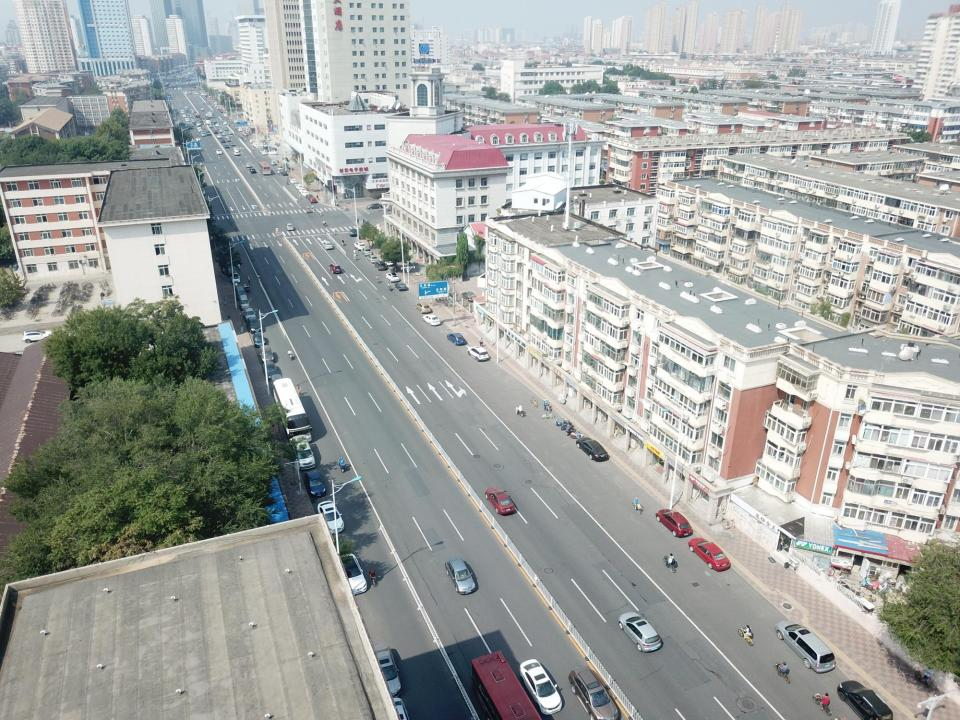bus: (471, 650, 543, 719), (273, 378, 312, 445), (259, 161, 271, 175), (195, 114, 201, 121)
car: (568, 666, 618, 720), (519, 658, 562, 715), (836, 679, 892, 719), (619, 612, 662, 652), (370, 645, 400, 697), (688, 535, 730, 571), (333, 552, 368, 595), (655, 508, 694, 538), (445, 558, 477, 594), (318, 500, 344, 534), (485, 486, 515, 515), (576, 436, 608, 461), (304, 469, 326, 497), (22, 328, 54, 344), (262, 361, 279, 381), (468, 346, 489, 362), (259, 345, 274, 363), (246, 317, 262, 333), (447, 332, 466, 345), (252, 332, 266, 348), (423, 314, 440, 326), (416, 302, 432, 313), (461, 291, 477, 302), (235, 286, 247, 300), (328, 262, 342, 274), (244, 308, 256, 321), (385, 272, 400, 282), (384, 203, 402, 211), (394, 282, 408, 291), (226, 266, 237, 277), (374, 261, 386, 270), (384, 257, 396, 266), (354, 242, 366, 250), (367, 203, 383, 209), (231, 273, 240, 283), (322, 242, 333, 250), (367, 255, 378, 263), (361, 248, 372, 256), (196, 188, 205, 195), (285, 223, 294, 230), (268, 150, 278, 155), (350, 229, 357, 236), (249, 167, 256, 174), (309, 196, 316, 203), (301, 190, 309, 196), (286, 176, 294, 182), (281, 156, 288, 162), (296, 184, 303, 190), (290, 178, 297, 184), (306, 194, 314, 199), (298, 188, 306, 193), (216, 148, 222, 154), (186, 124, 192, 130), (292, 182, 299, 187), (305, 207, 310, 213), (245, 162, 251, 167), (282, 171, 288, 176), (279, 168, 285, 173), (206, 130, 211, 135), (234, 151, 239, 156), (224, 144, 229, 149), (271, 160, 276, 165), (195, 137, 201, 141), (277, 166, 283, 170), (223, 121, 230, 124), (194, 134, 199, 138), (220, 139, 225, 143), (217, 134, 222, 138), (230, 142, 235, 146), (226, 138, 231, 142), (224, 135, 229, 139), (196, 122, 200, 126), (199, 121, 203, 125), (209, 124, 213, 128), (215, 123, 219, 127), (224, 126, 228, 130), (222, 132, 226, 136), (218, 126, 222, 130), (234, 148, 238, 151), (214, 130, 218, 133), (228, 131, 232, 134), (220, 129, 224, 132)
van: (775, 619, 837, 673), (292, 434, 316, 470), (240, 294, 249, 308), (200, 131, 206, 136), (197, 127, 202, 132)
